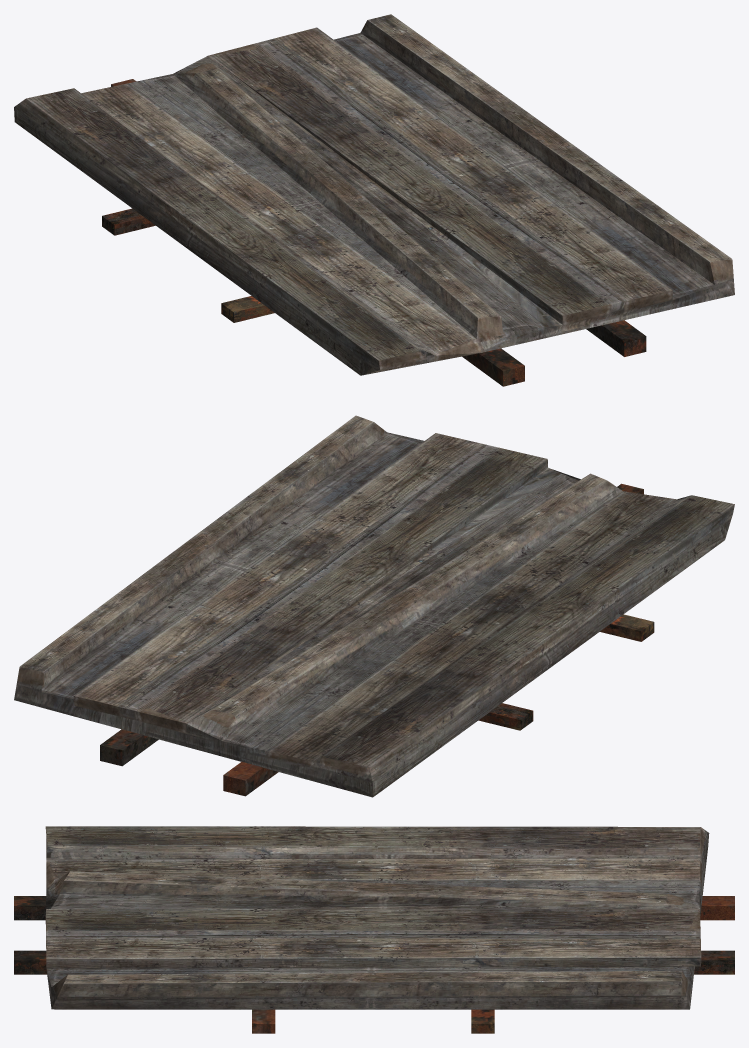
File: P_Planks01.FBX
3 views of the same model, one above another, from view 1: azimuth 30°, elevation 25°; view 2: azimuth 150°, elevation 25°; view 3: azimuth 270°, elevation 25° (orthographic). The views are drawn at different scales.
Visible parts, largest first — view 1: P_Planks01; view 2: P_Planks01; view 3: P_Planks01.
Part boxes in pixels (x1=…): P_Planks01: x1=14, y1=14, x2=734, y2=386; P_Planks01: x1=14, y1=415, x2=734, y2=797; P_Planks01: x1=14, y1=826, x2=734, y2=1033.
Size of the model in its own units: 140 by 14.42 by 226.
